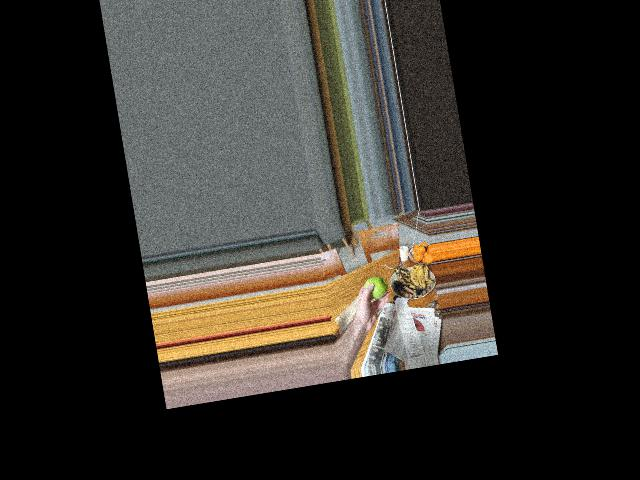apple: (361, 273, 390, 305)
